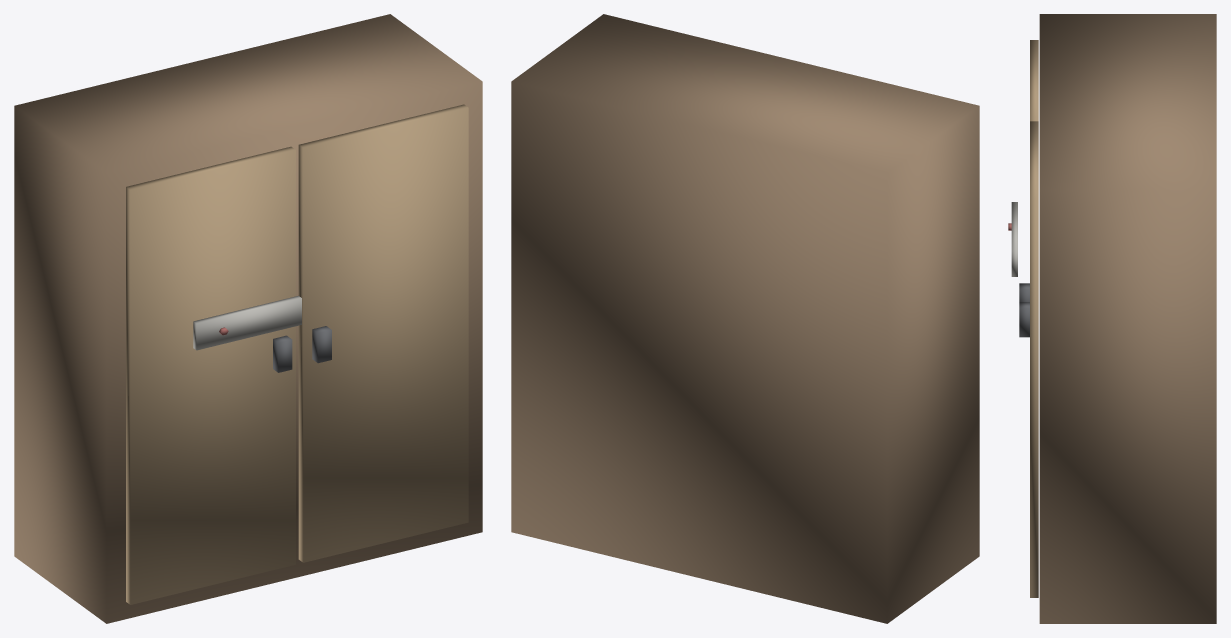
File: dental_instrument_cabinet__wide.glb
3 renders of one model, left to right at view 1: azimuth 30°, elevation 25°; view 2: azimuth 150°, elevation 25°; view 3: azimuth 270°, elevation 25°, orthographic. The views are drawn at different scales.
Parts seen in each view (by area): view 1: world; view 2: world; view 3: world.
Boxes of the visible parts, box(x1,y1,x2,y2) form: world: box(14, 14, 482, 623); world: box(511, 14, 979, 623); world: box(1008, 14, 1216, 623).
Size of the model in its own units: 1.18 by 1.35 by 0.5885.
